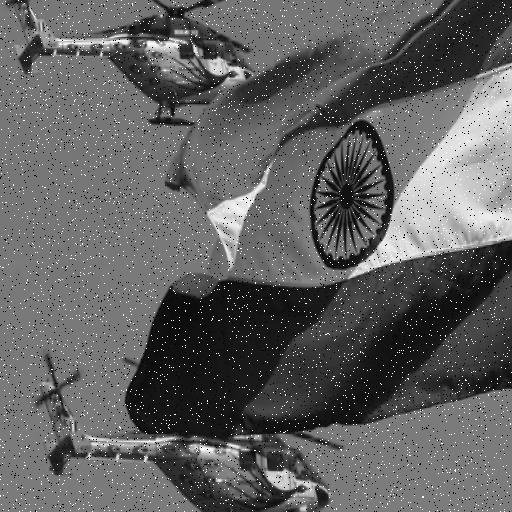helicopter: (37, 348, 356, 512), (6, 1, 292, 130), (1, 498, 66, 512)
